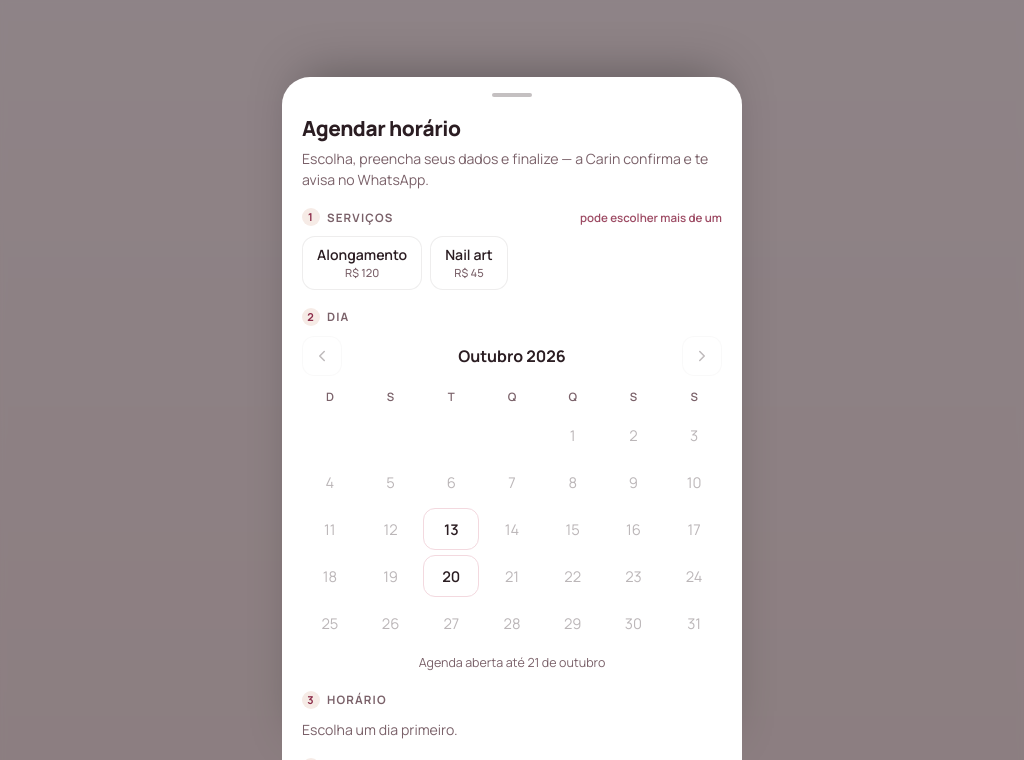
Scenario: Sheet do site: duração do serviço › esconde o horário que a duração do serviço invadiria, se ele já está ocupado
Click the button "Alongamento R$ 120". click: (362, 263)
box: top-left (302, 236), bottom-right (422, 290)
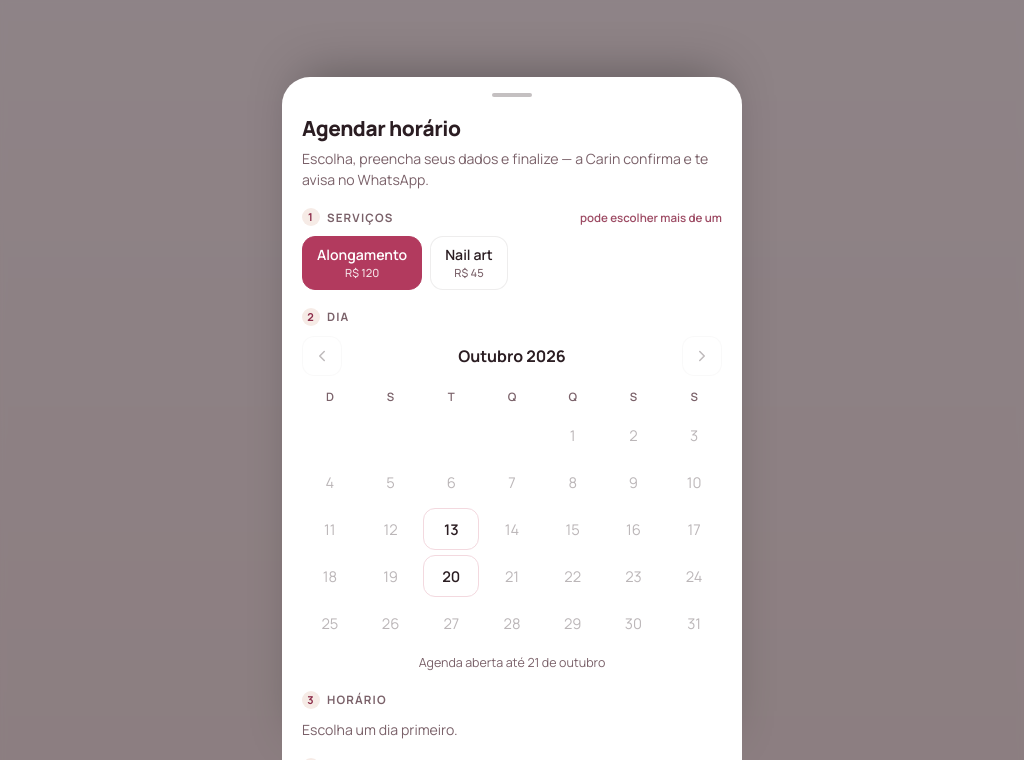
Click the button "13". click: (451, 529)
box: top-left (423, 508), bottom-right (479, 550)
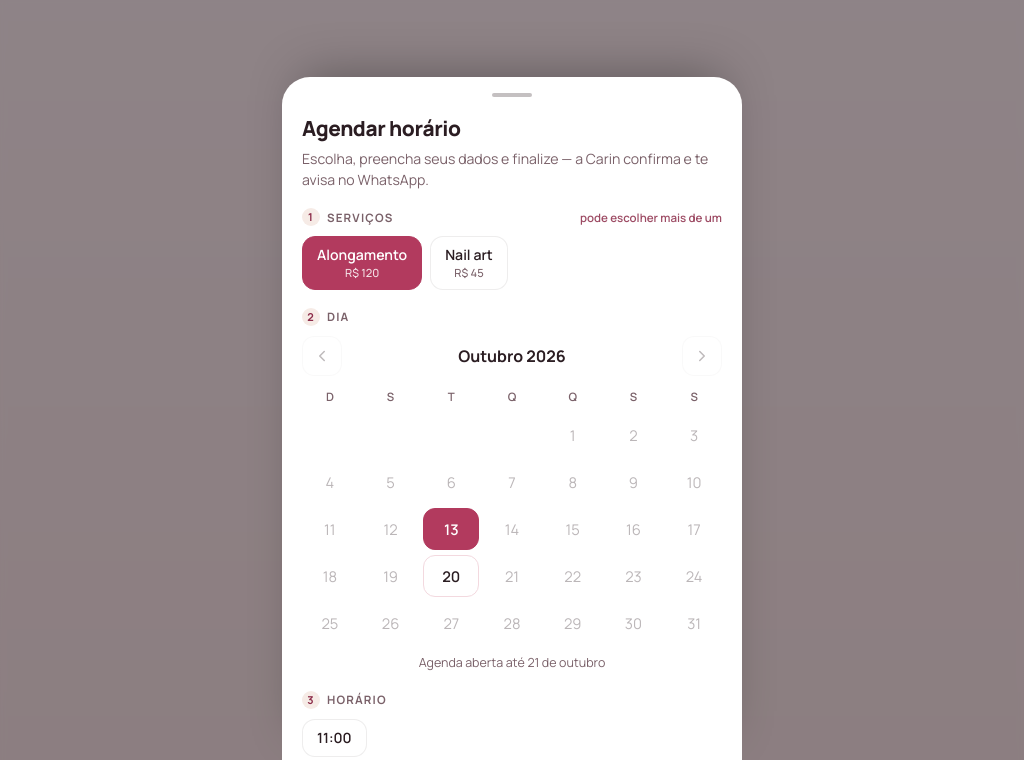
Now the button "11:00" is shown, box top-left (302, 719), bottom-right (367, 757)
